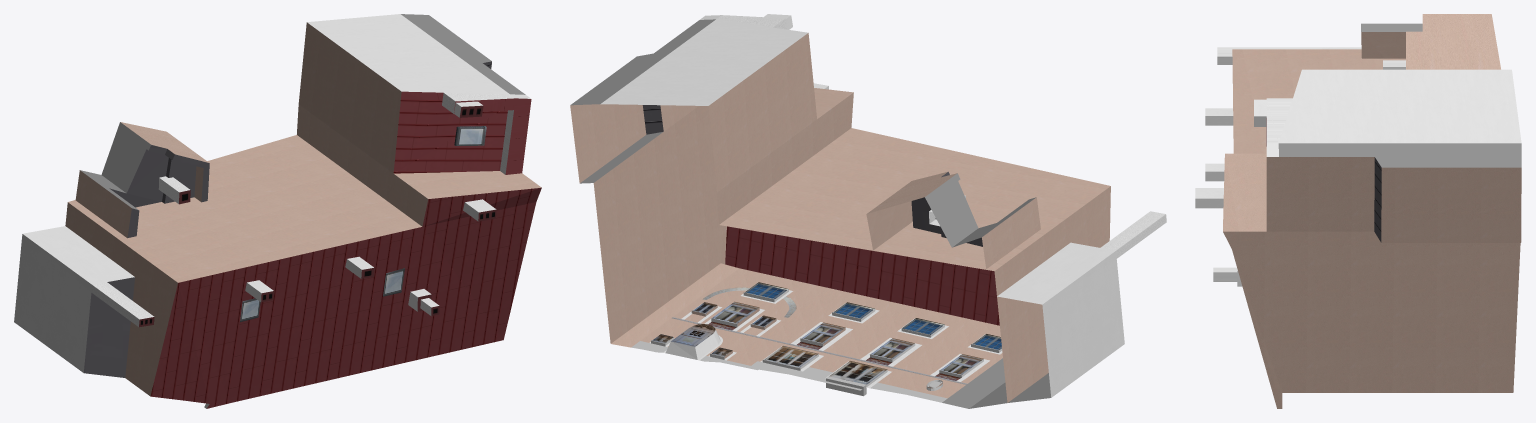
The model's file is Lyhike_jalg_4.obj.
3 views of the same model, side by side, from view 1: azimuth 30°, elevation 25°; view 2: azimuth 150°, elevation 25°; view 3: azimuth 270°, elevation 25° (orthographic). The views are drawn at different scales.
Visible parts, largest first — view 1: Lyhike_jalg_4; view 2: Lyhike_jalg_4; view 3: Lyhike_jalg_4.
Part boxes in pixels (left/top/right/bottom): Lyhike_jalg_4: left=14, top=14, right=541, bottom=408; Lyhike_jalg_4: left=570, top=14, right=1166, bottom=408; Lyhike_jalg_4: left=1195, top=14, right=1521, bottom=408.
Bounding box in the file's own units: 25.83 × 14.88 × 15.16.
